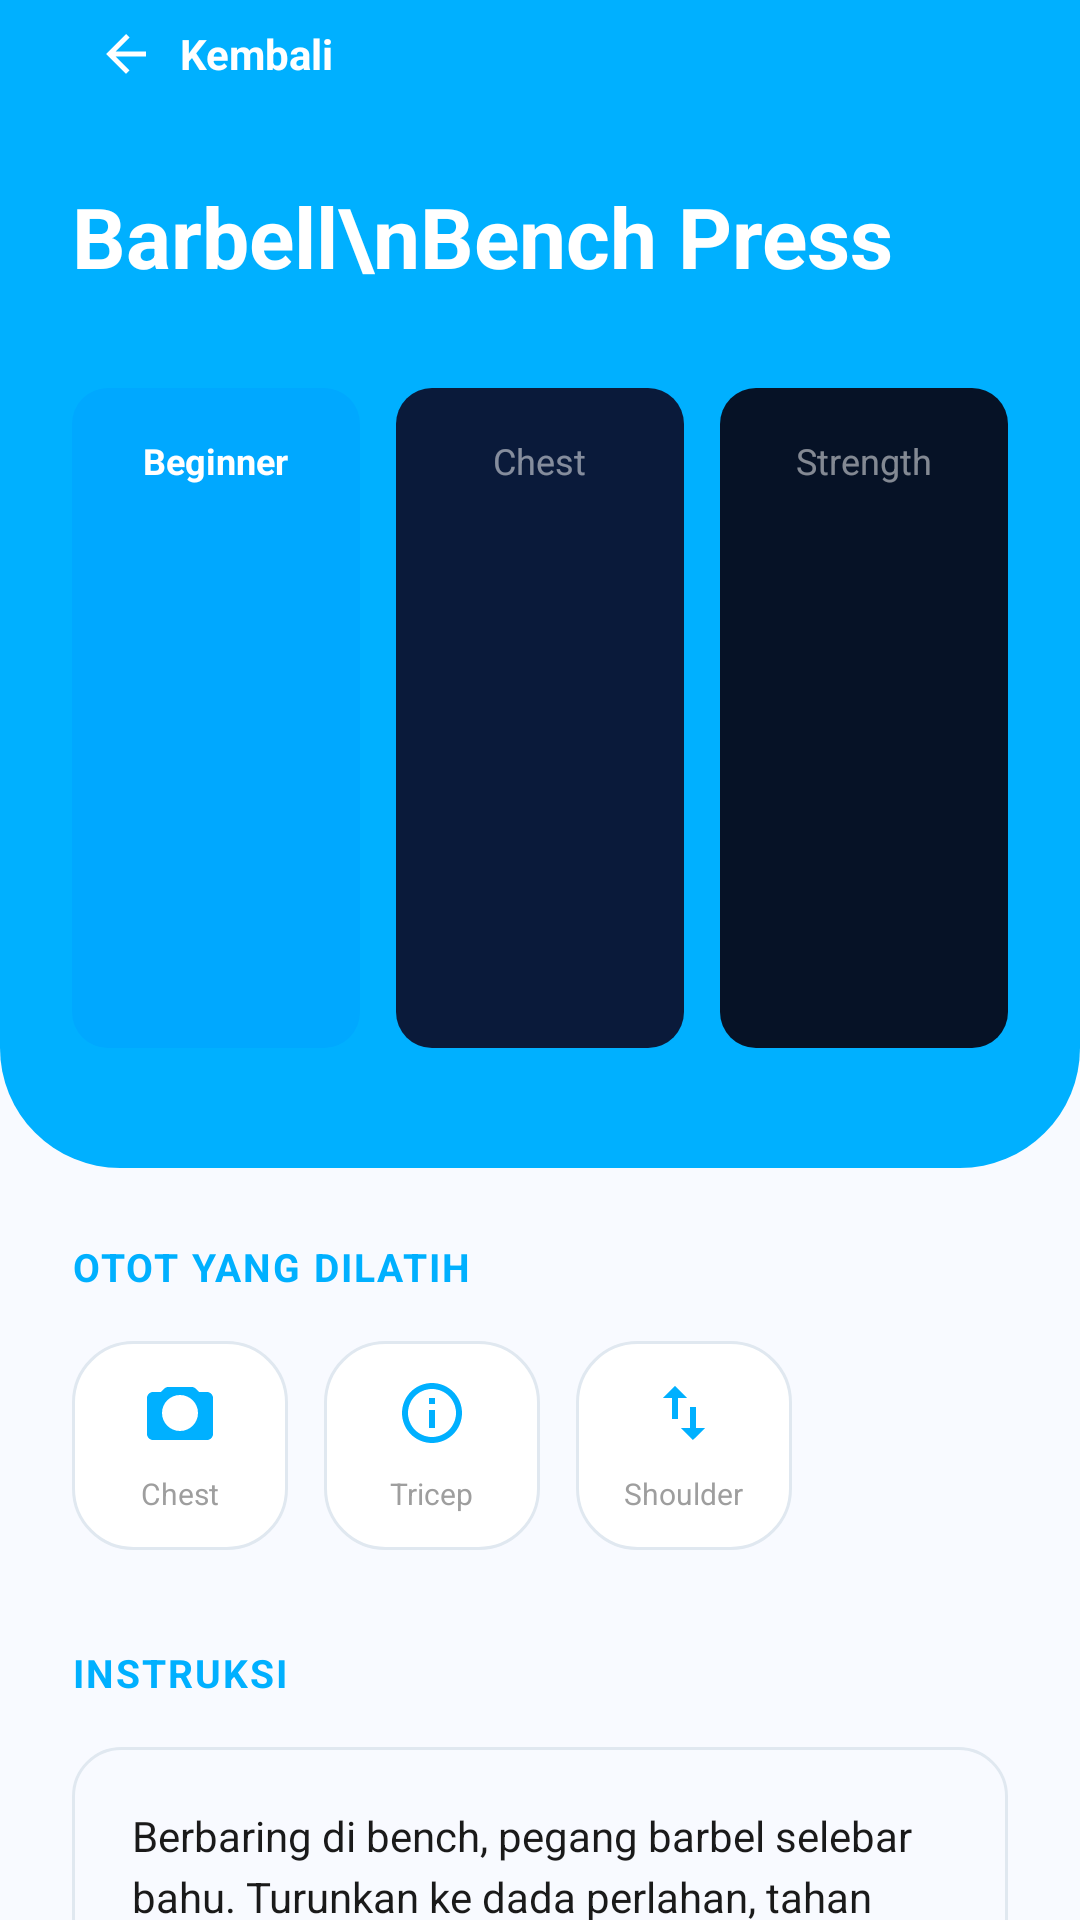

Where icons sit on this 1080px x 1920px app screen, as (x1, y1, x2, y2):
back: (106, 34, 146, 74)
